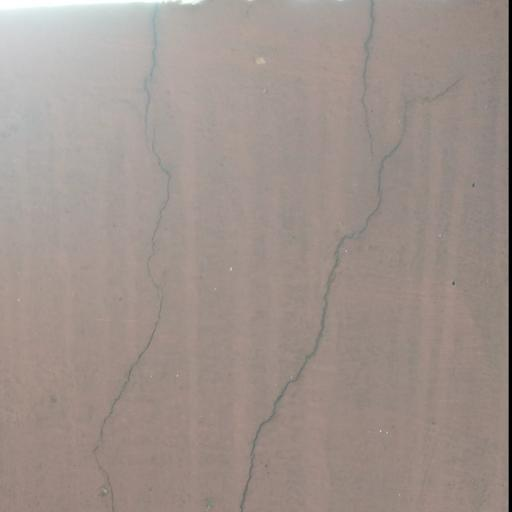minor_crack: (231, 0, 462, 512), (84, 0, 198, 512)
